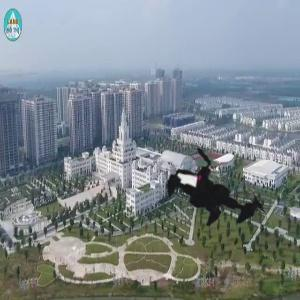drone: (142, 112, 295, 265)
